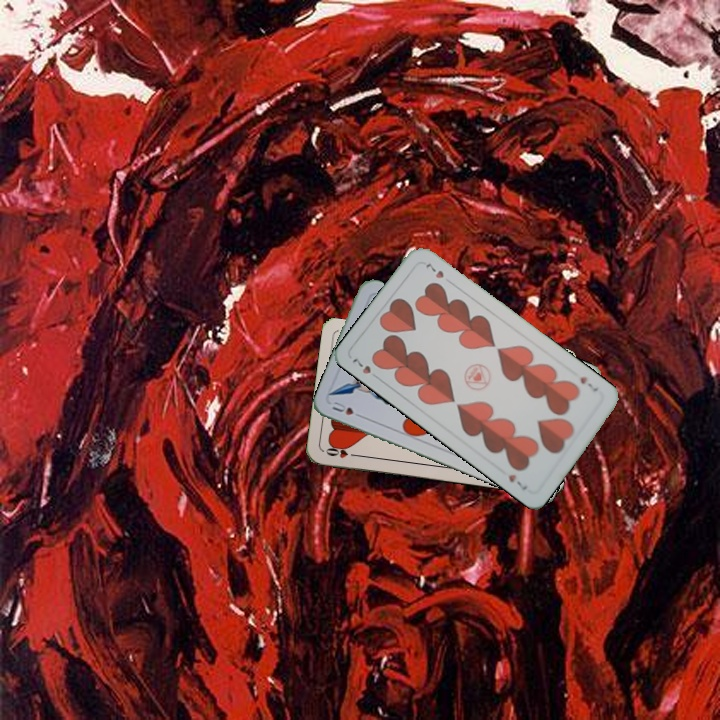H7: (348, 354, 382, 383), (576, 372, 601, 394)
HO: (322, 442, 361, 460)
HU: (328, 397, 366, 419)
